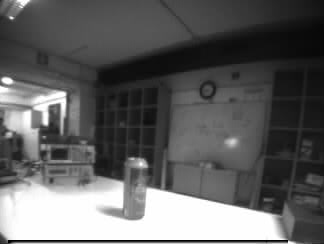Tin can: (124, 158, 147, 218)
